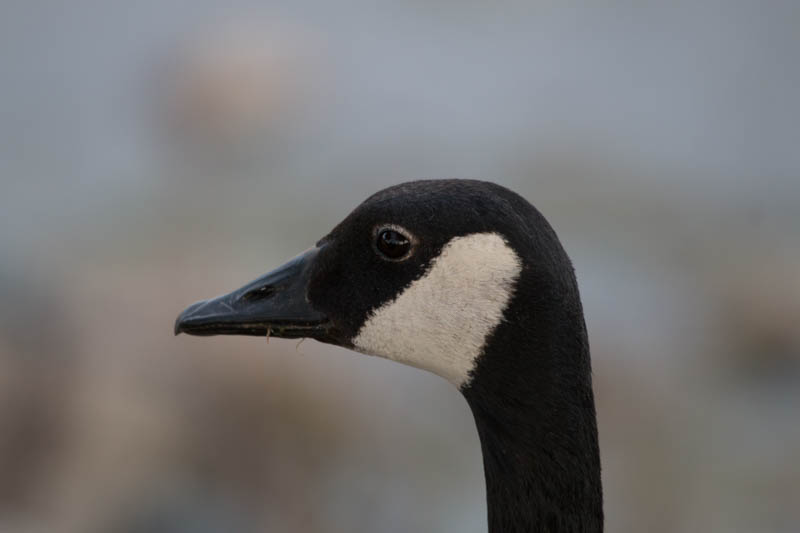goose-head: (171, 178, 592, 386)
